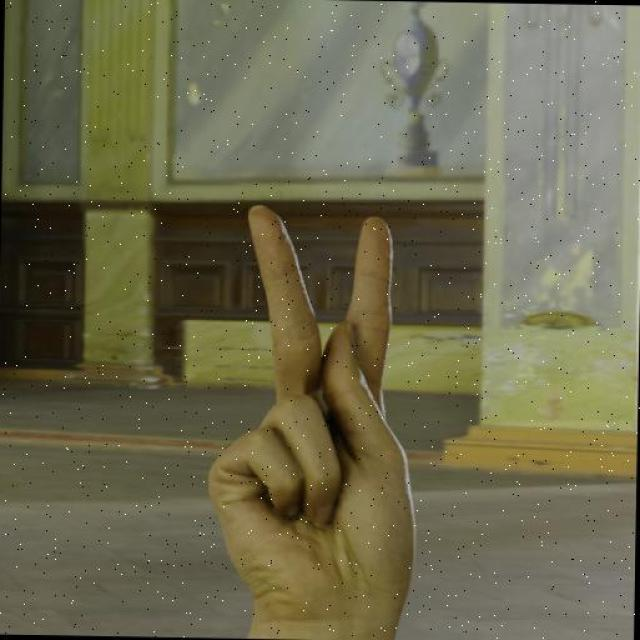K: (202, 202, 428, 632)
